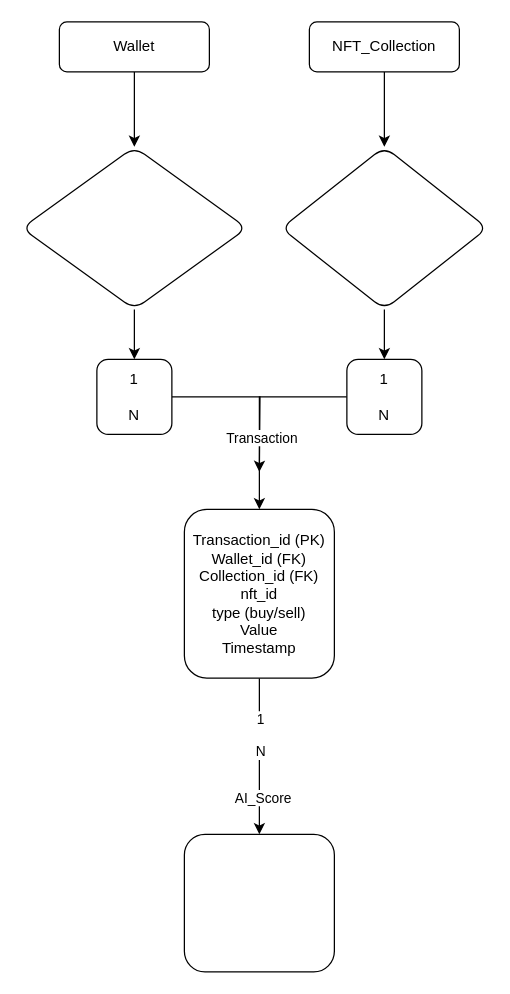
Some shapes in this 510 by 994 pixel diagram are drawn without their labels. The shapes that lost their labels are listed below. From the top down, each one's centre as x and y in pixels, then its label:
At (134,227): "Wallet_ID (PK) Address Owner_type created_at".
At (384,227): "Collection_ID (PK) name creator created_at".
At (258,902): "Score_id (PK) Wallet_id (FK) trust_score risk_level model_version generated_at".
